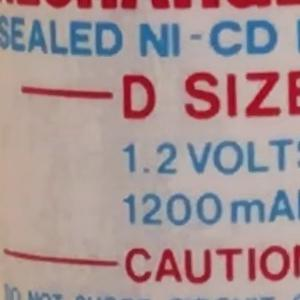keyword: (130, 10, 287, 88)
